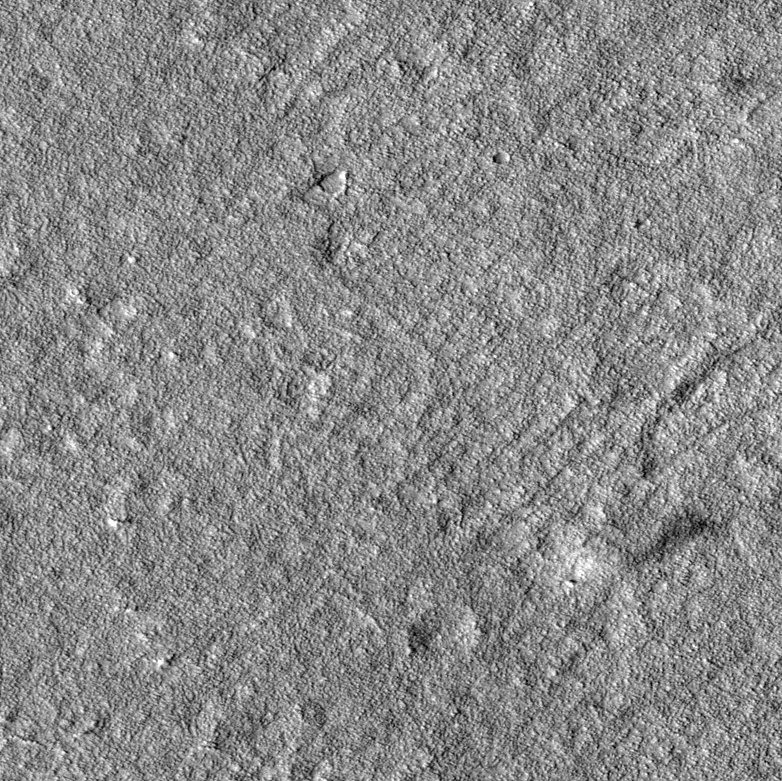dust_devil: (571, 504, 726, 586)
